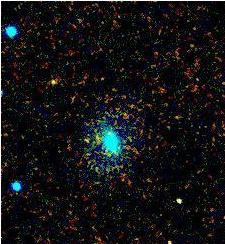star: (32, 70, 62, 100)
